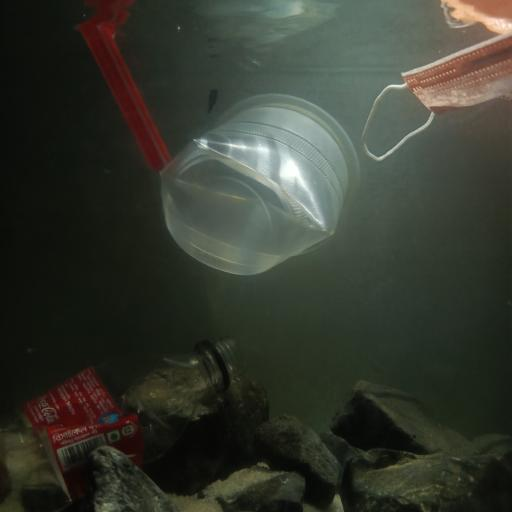mask: (360, 32, 510, 163)
plastic_bottle: (0, 334, 251, 510)
plastic_cup: (155, 93, 356, 279)
plastic_straw: (85, 23, 172, 175)
